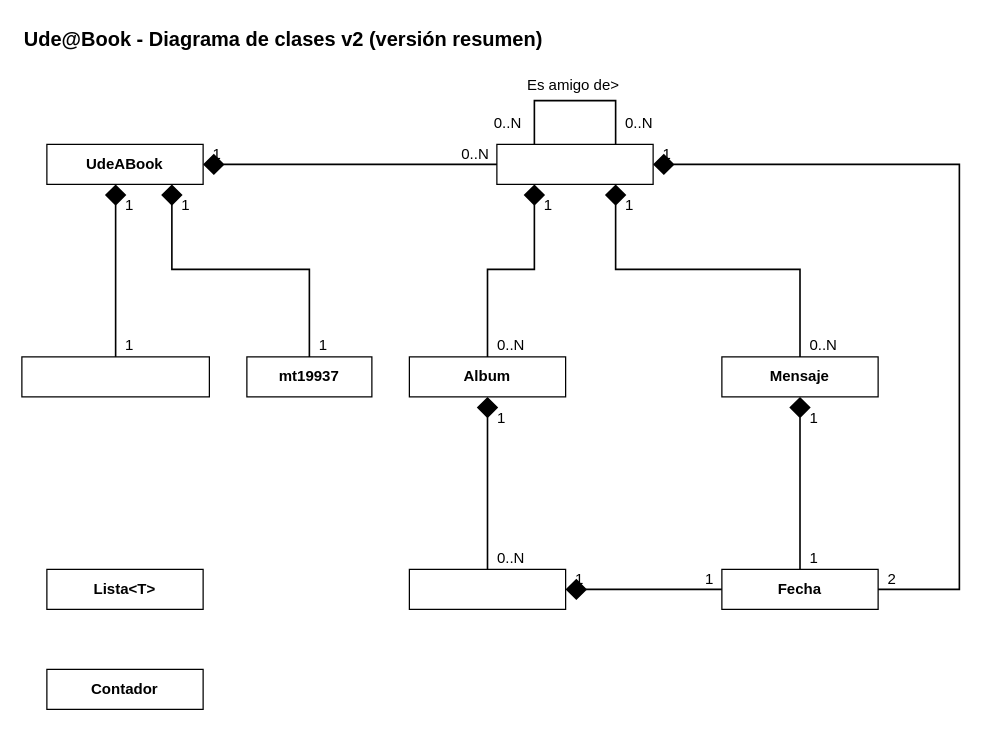
Some shapes in this 1003 by 731 pixel diagram are drawn without their labels. Each missing label, with the centre of its shape:
Foto: the point at 487,588
MatrizAdyacencia: the point at 115,376
Usuario: the point at 574,163
